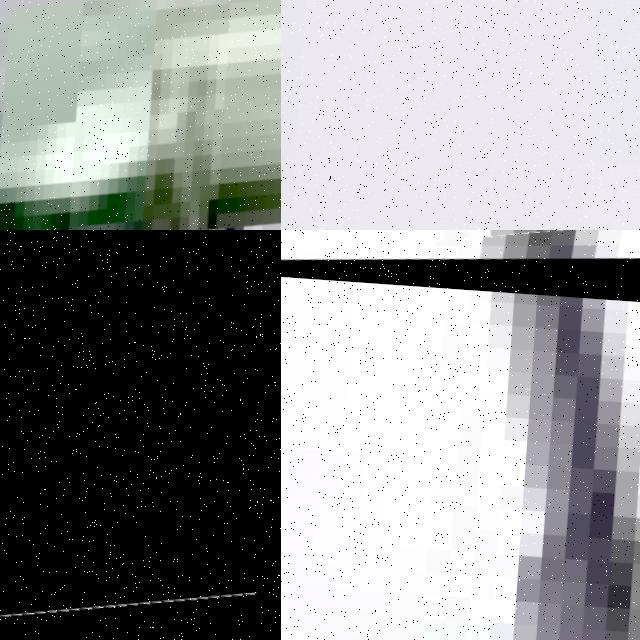drone: (0, 230, 281, 640), (0, 0, 281, 230), (281, 230, 640, 305)
